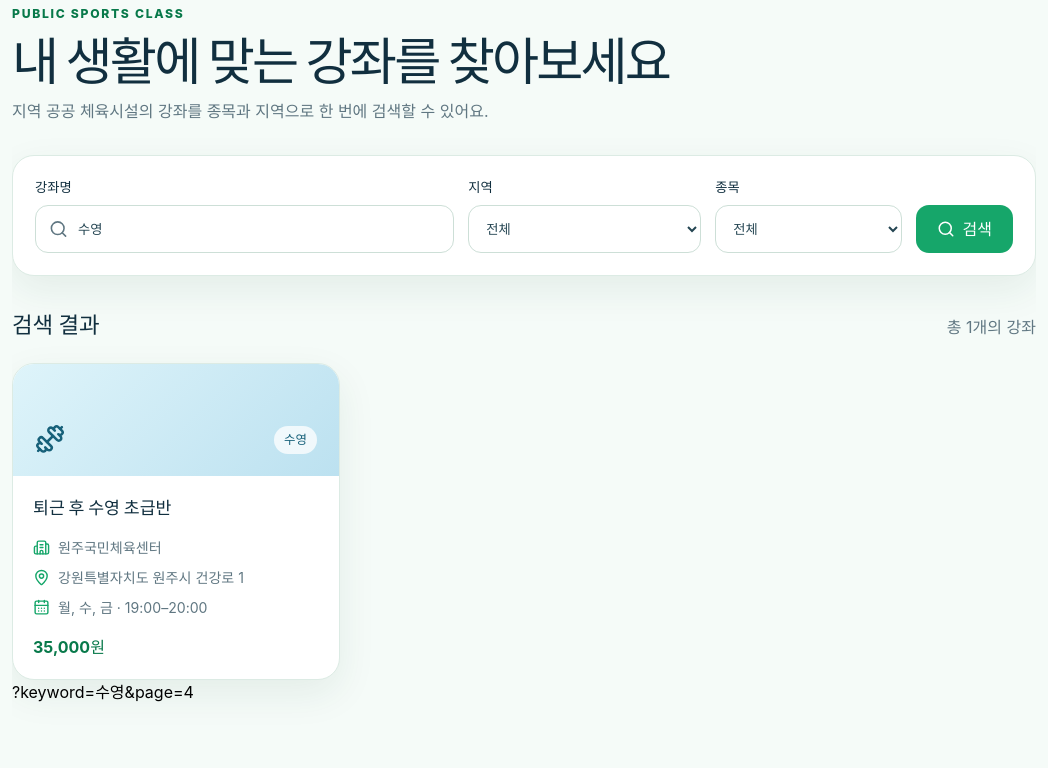
it: CourseSearchPage › submits_trimmed_filters_and_resets_page
Replace the text in the search field labelled "강좌명" with "  요가  ": (245, 229) left=35, top=205, right=454, bottom=253
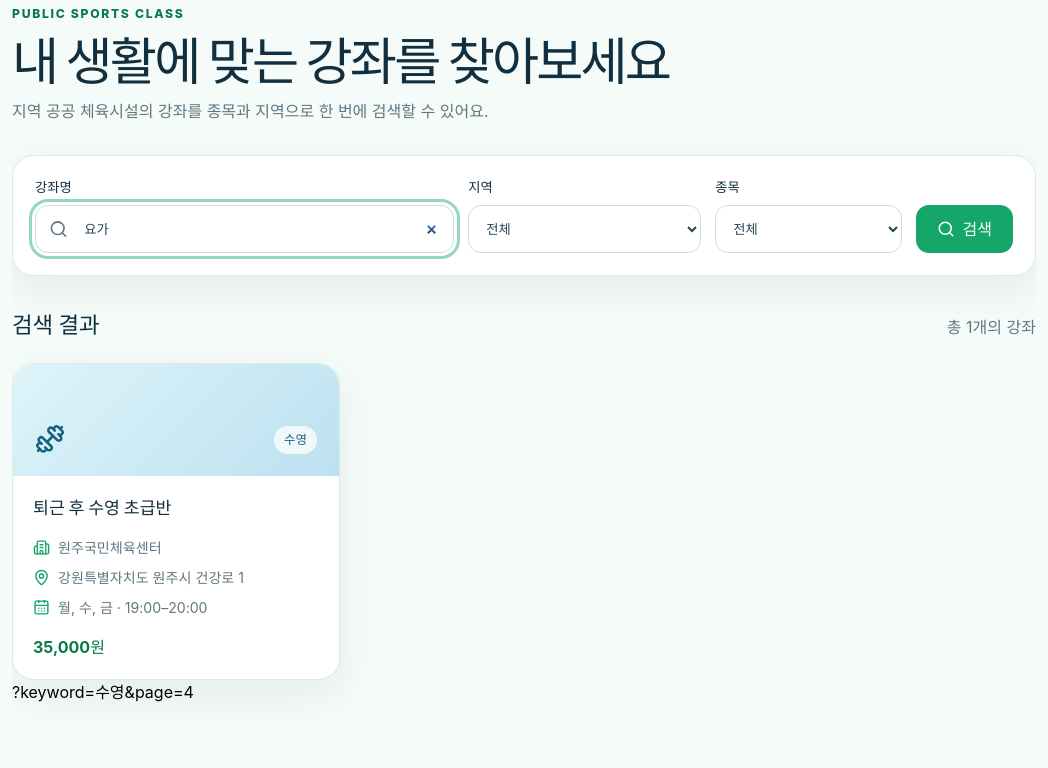
Click the button "검색": (964, 229) left=916, top=205, right=1013, bottom=253
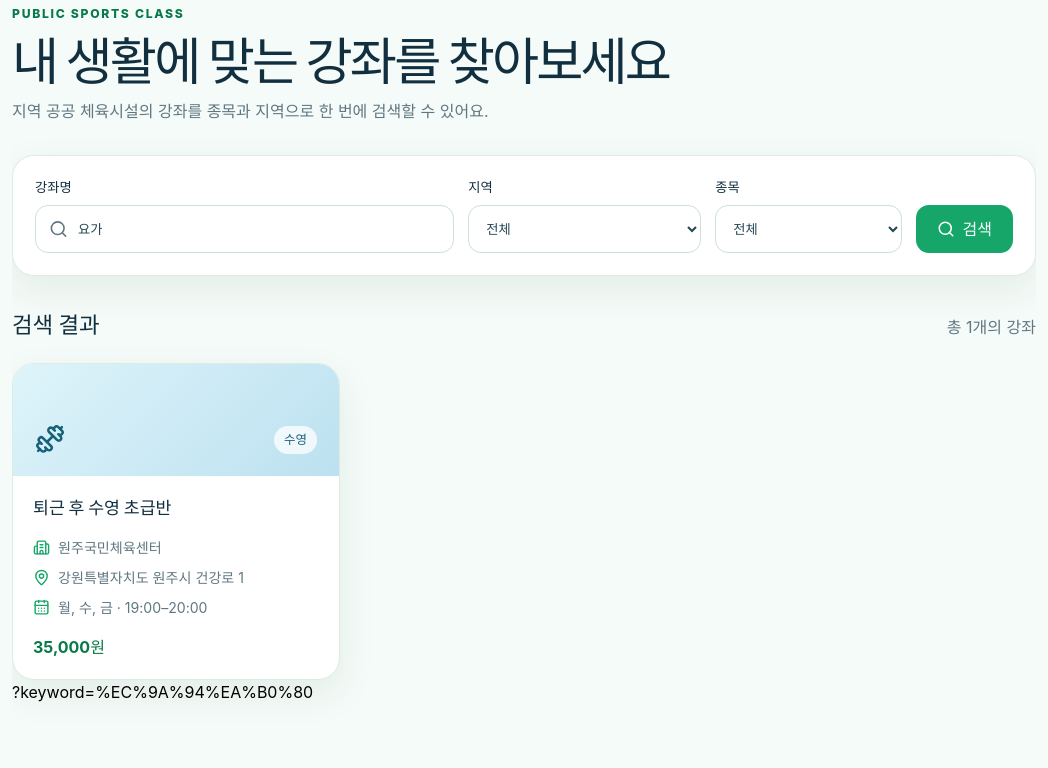
Now the text with test id "location" shows "keyword=%EC%9A%94%EA%B0%80", box left=12, top=682, right=313, bottom=702
Now the text with test id "location" no longer shows "page=4", box left=12, top=682, right=313, bottom=702
